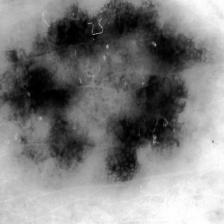Benign Marking or Mole: (0, 0, 212, 185)
